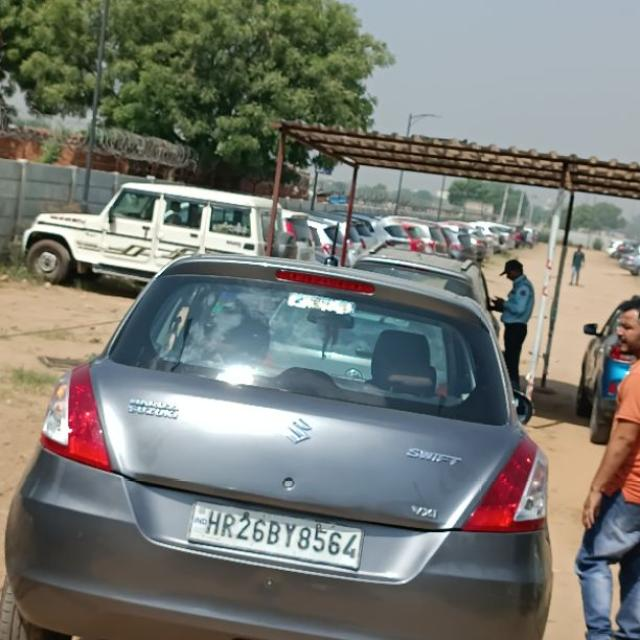license_plate: (185, 499, 364, 571)
